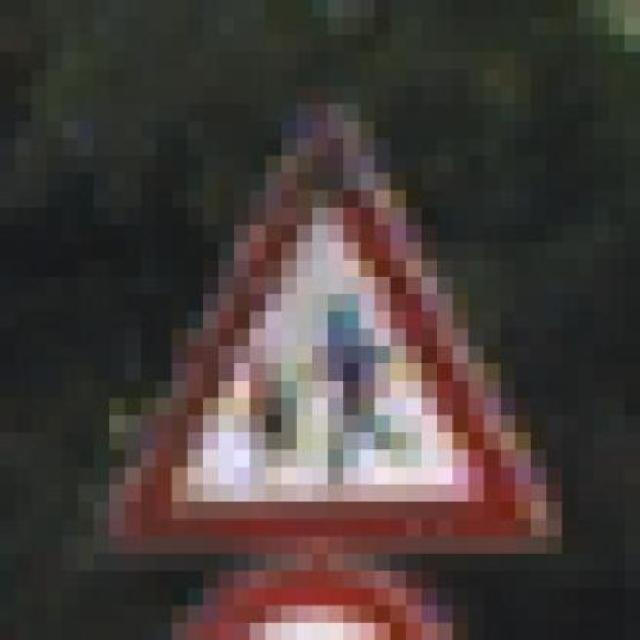Beware of children: (62, 86, 578, 571)
